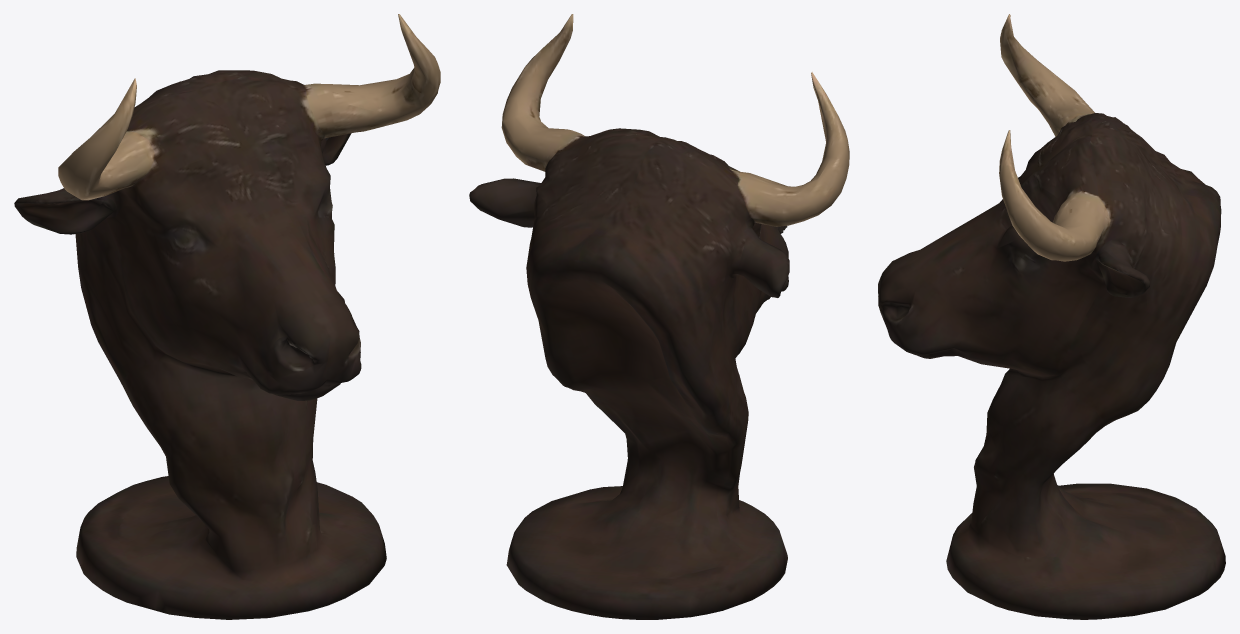
Rendered from bull_head.glb.
3 renders of one model, left to right at view 1: azimuth 30°, elevation 25°; view 2: azimuth 150°, elevation 25°; view 3: azimuth 270°, elevation 25°, orthographic. The views are drawn at different scales.
Visible parts, largest first — view 1: bull_head; view 2: bull_head; view 3: bull_head.
Part boxes in pixels (bbox=[...]): bull_head: bbox=[14, 14, 440, 619]; bull_head: bbox=[469, 14, 849, 619]; bull_head: bbox=[878, 14, 1225, 619].
Size of the model in its own units: 0.3062 by 0.4327 by 0.2803.
Materials: 1 (1 with a texture image).
